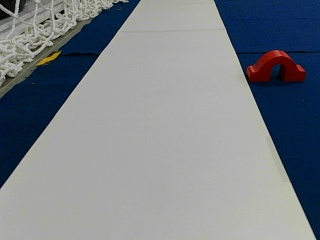bridge: (248, 50, 304, 81)
